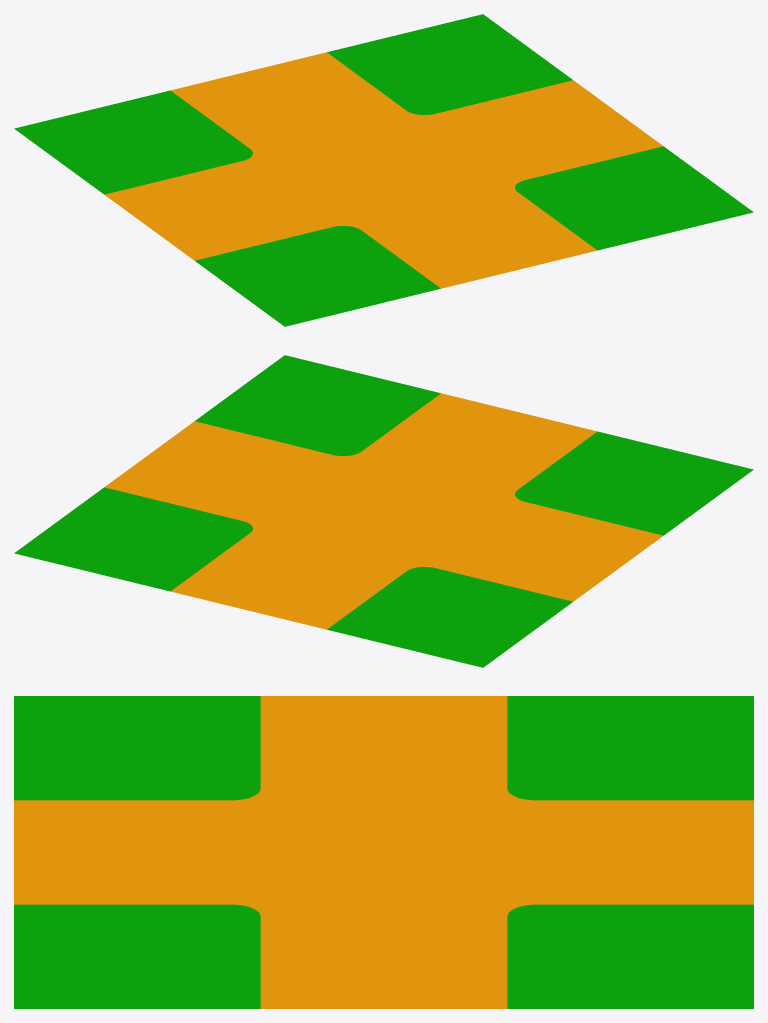
File: Square Path.FBX
The picture shows the model from 3 angles, top to bottom: view 1: azimuth 30°, elevation 25°; view 2: azimuth 150°, elevation 25°; view 3: azimuth 270°, elevation 25°; orthographic projection. The views are drawn at different scales.
Visible parts, largest first — view 1: Square Path; view 2: Square Path; view 3: Square Path.
Boxes of the visible parts, <box> form: Square Path: <box>14,14,753,326</box>; Square Path: <box>14,355,753,667</box>; Square Path: <box>14,696,753,1008</box>.
Bounding box in the file's own units: 1200 × 0.000285 × 1200.
